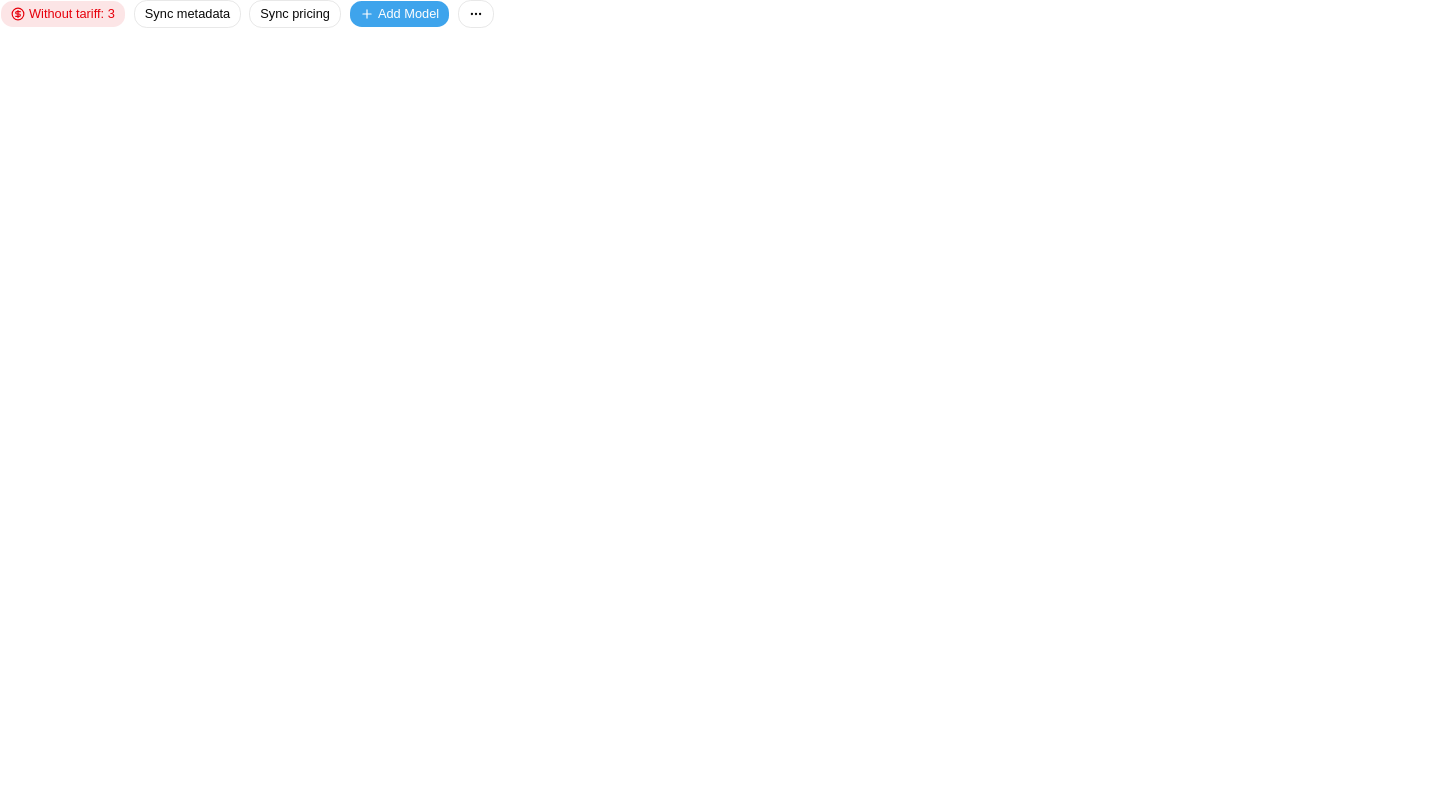
shows a counter for models without tariff and explains what to configure
The image size is (1440, 810).
Expected: the button "Add Model" is shown, [349,0,450,28]
What coordinates should you click on to do the following:
click the button "Without tariff: 3"
I would click on:
 (63, 14)
Its box is [0,0,126,28].
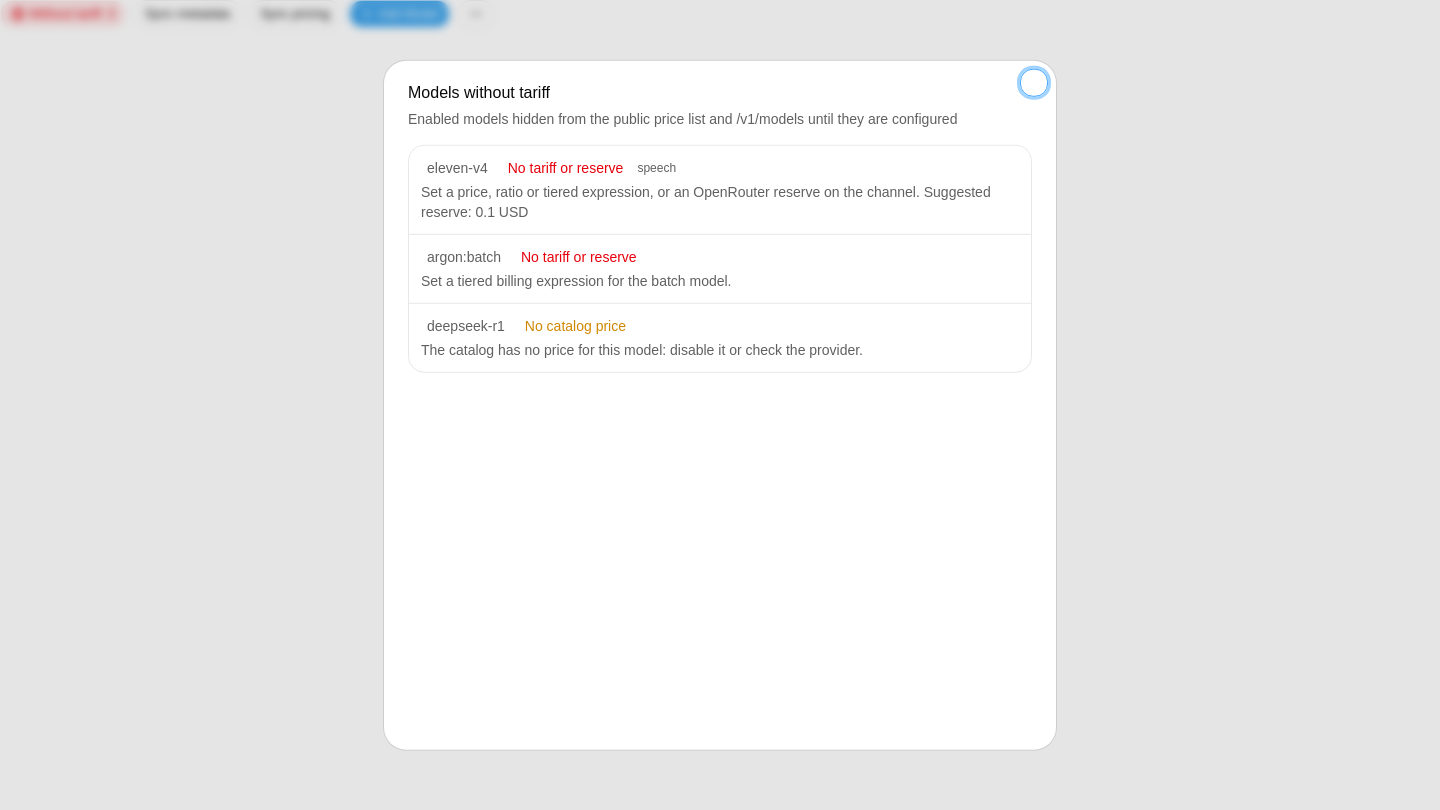
Expected: the heading "Models without tariff" is shown, [408,84,550,101]
Expected: the text "eleven-v4" is shown, [427,157,488,178]
Expected: the text "No tariff or reserve" is shown 2 times, [508,157,623,178]; [521,246,637,267]
